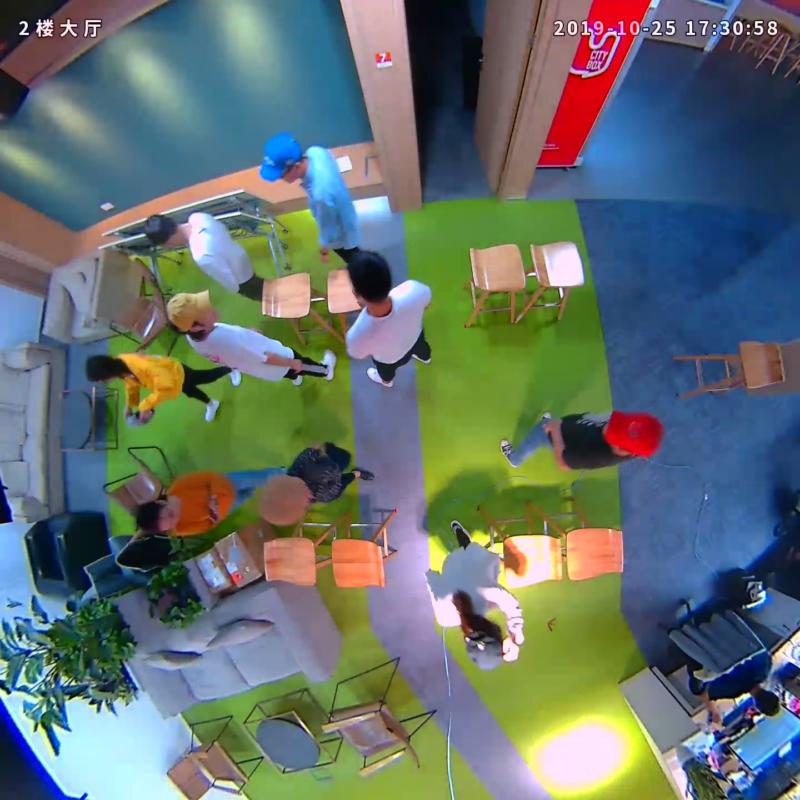head: (602, 409, 665, 458), (256, 475, 310, 527), (166, 287, 219, 334), (348, 251, 391, 308), (259, 132, 303, 184), (464, 618, 505, 671), (136, 499, 179, 536), (144, 212, 186, 247), (84, 353, 119, 384)
